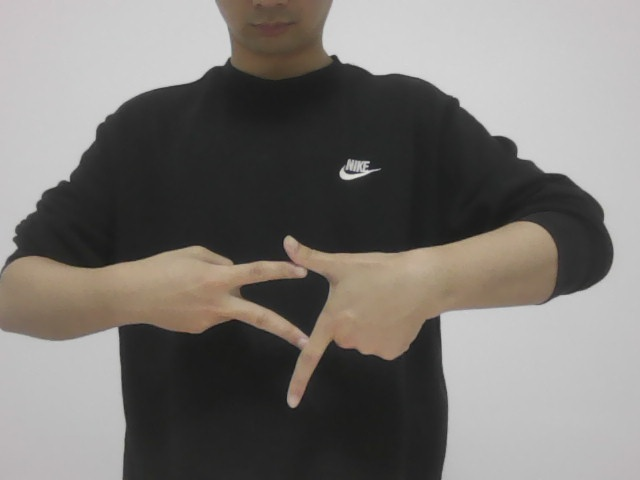introduce: (129, 230, 443, 415)
